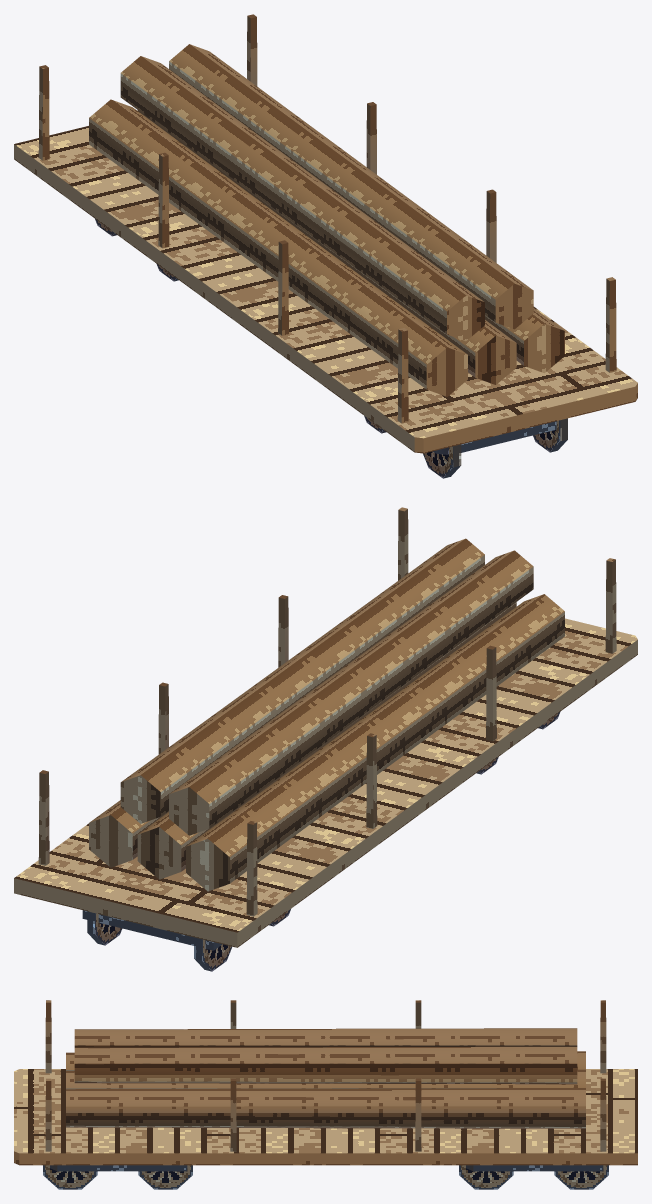
Rendered from wrail.car__flatcar.glb.
3 renders of one model, top to bottom at view 1: azimuth 30°, elevation 25°; view 2: azimuth 150°, elevation 25°; view 3: azimuth 270°, elevation 25°, orthographic. The views are drawn at different scales.
Parts seen in each view (by area): view 1: kit_load, kit_frame, kit_stakes, kit_wheels, kit_trucks; view 2: kit_load, kit_frame, kit_stakes, kit_wheels, kit_trucks; view 3: kit_load, kit_frame, kit_stakes, kit_wheels, kit_trucks.
Part boxes in pixels (box(x1,y1,x2,y2)): kit_load: box(89, 44, 564, 396); kit_frame: box(14, 126, 637, 453); kit_stakes: box(38, 14, 616, 423); kit_wheels: box(95, 219, 567, 478); kit_trucks: box(433, 421, 556, 454); kit_load: box(89, 538, 564, 891); kit_frame: box(14, 618, 637, 947); kit_stakes: box(38, 507, 616, 916); kit_wheels: box(87, 711, 560, 971); kit_trucks: box(82, 910, 221, 950); kit_load: box(66, 1028, 585, 1128); kit_frame: box(14, 1069, 637, 1165); kit_stakes: box(45, 1000, 606, 1151); kit_wheels: box(43, 1165, 608, 1189); kit_trucks: box(50, 1165, 603, 1171).
Bounding box in the file's own units: 2.3 × 1.66 × 7.2.
5 materials, 5 textured.
